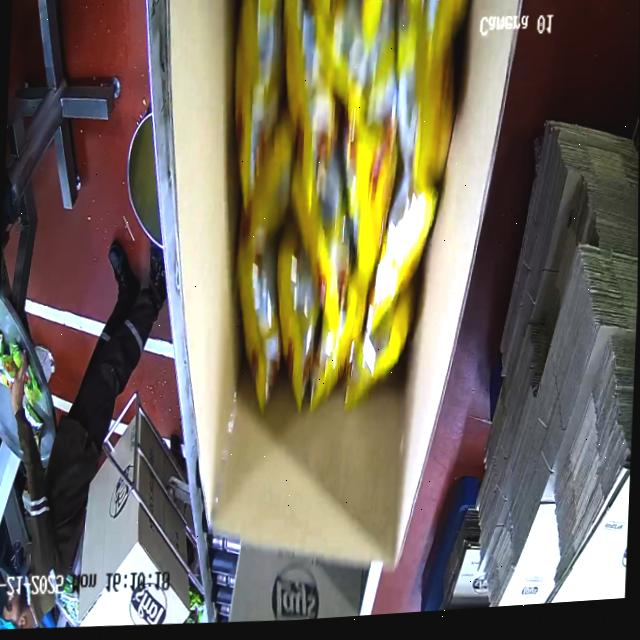SALTED: (217, 0, 489, 419)
